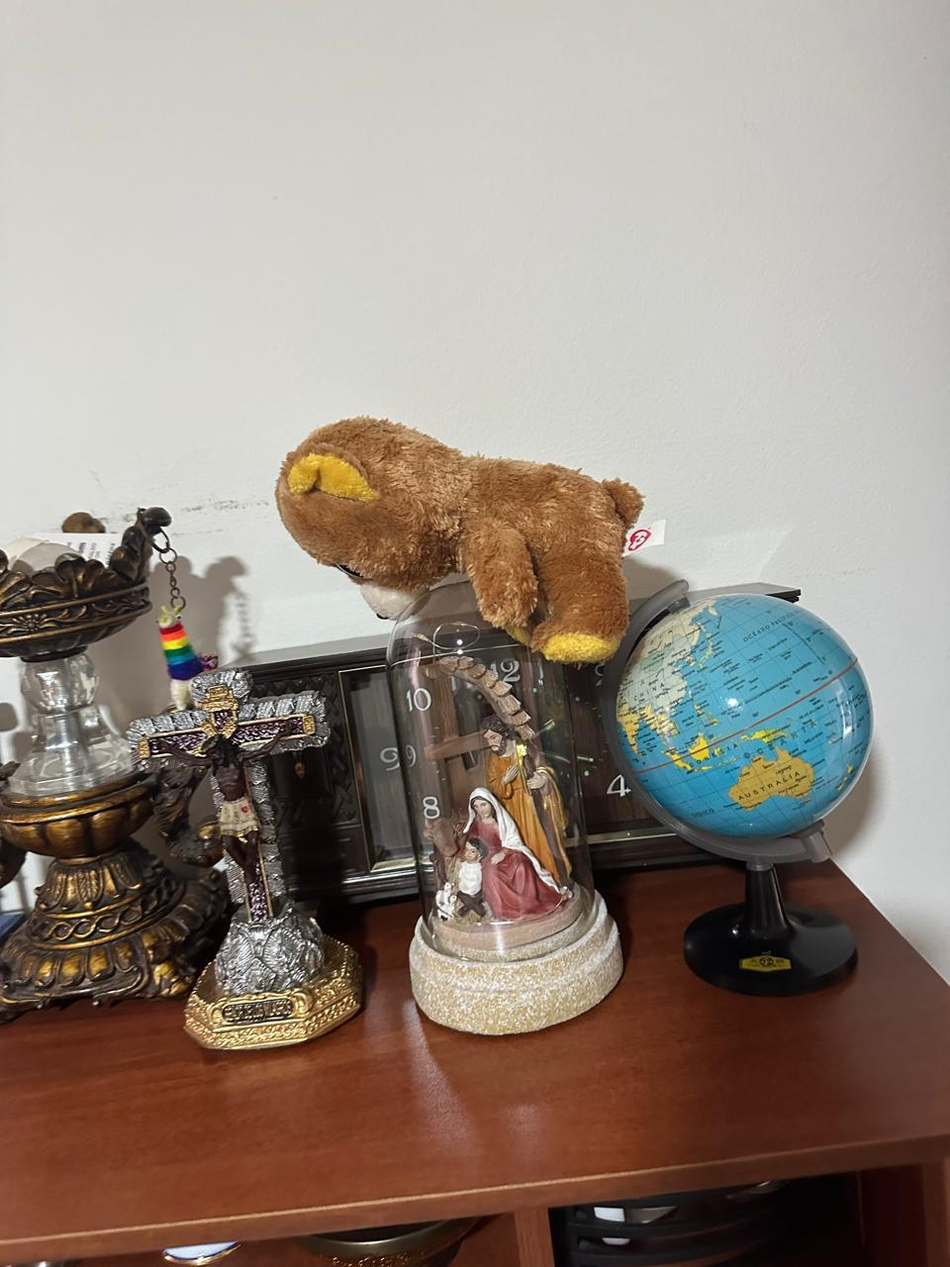peluche_sebastian: (275, 406, 656, 666)
